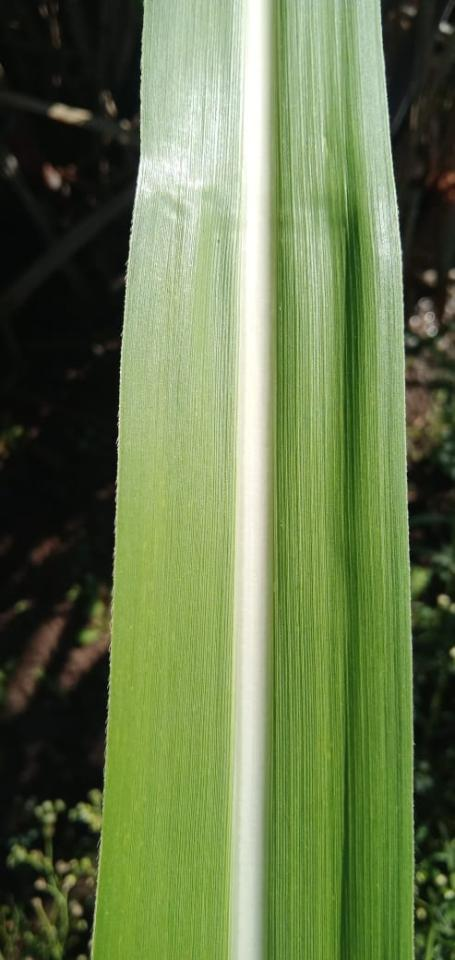Healthy: (93, 0, 412, 959)
